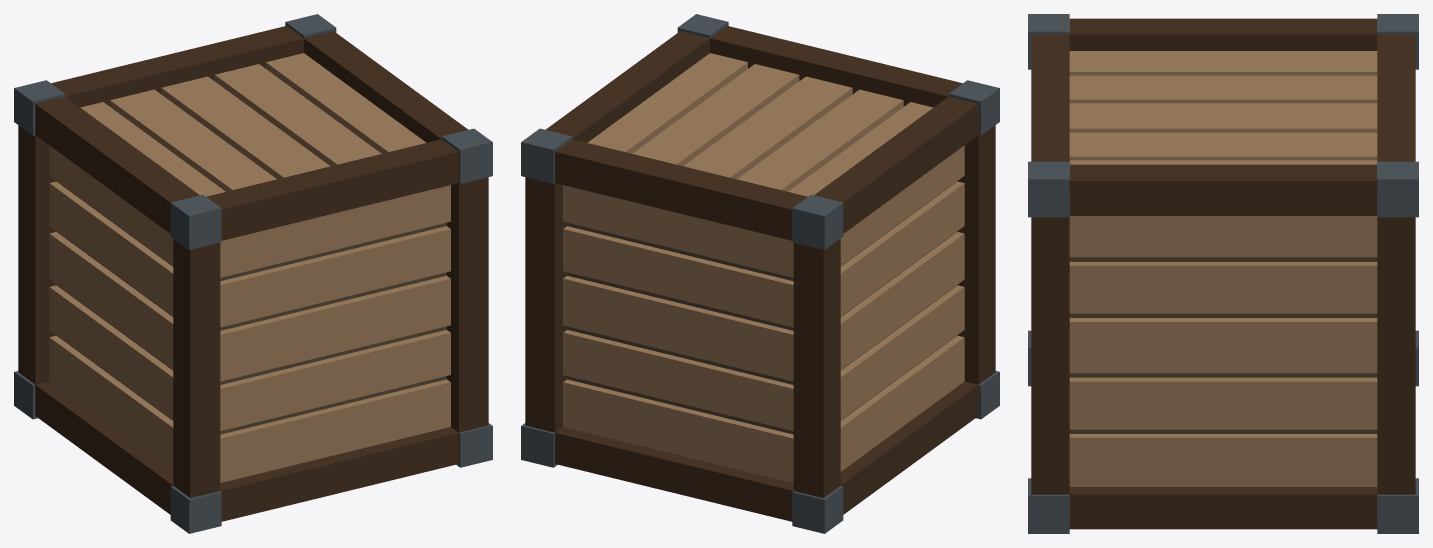
The picture shows the model from 3 angles, left to right: view 1: azimuth 30°, elevation 25°; view 2: azimuth 150°, elevation 25°; view 3: azimuth 270°, elevation 25°; orthographic projection. The views are drawn at different scales.
Visible parts, largest first — view 1: Box 1; view 2: Box 1; view 3: Box 1.
Boxes of the visible parts, x1,y1,x2,y2 form: Box 1: [14, 14, 492, 533]; Box 1: [521, 14, 999, 533]; Box 1: [1028, 14, 1418, 533].
Bounding box in the file's own units: 32.84 × 32.84 × 32.81.
